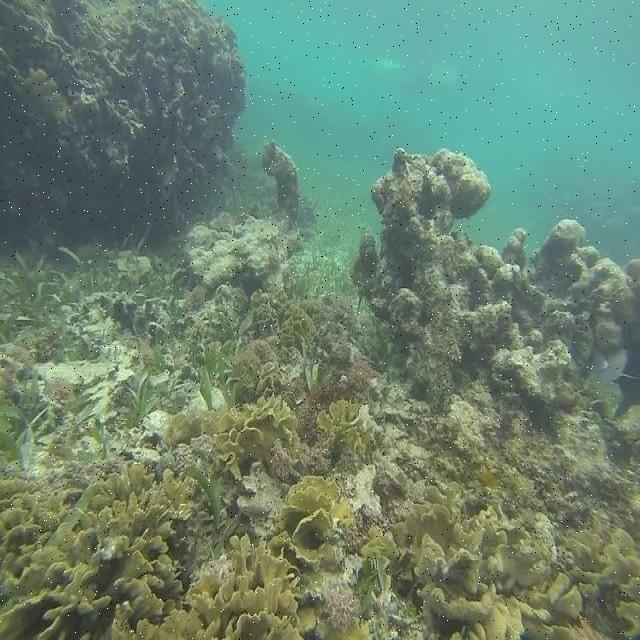reefs: (352, 148, 639, 445), (0, 0, 256, 243), (1, 461, 317, 639)
